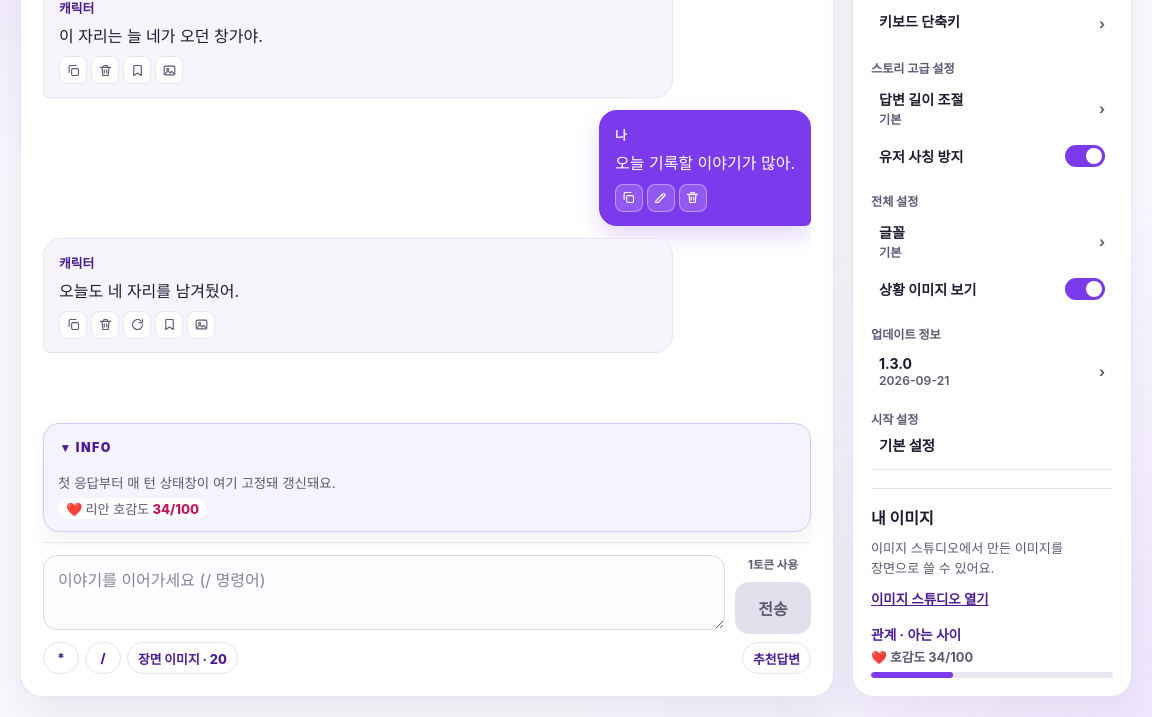
Test case: 채팅 흐름 › 실패한 응답을 사용자 메시지 중복 없이 다시 시도한다
(page scrolled)
In the text box named "메시지": (384, 593) [43, 555, 725, 630], type "재시도 대상 메시지"
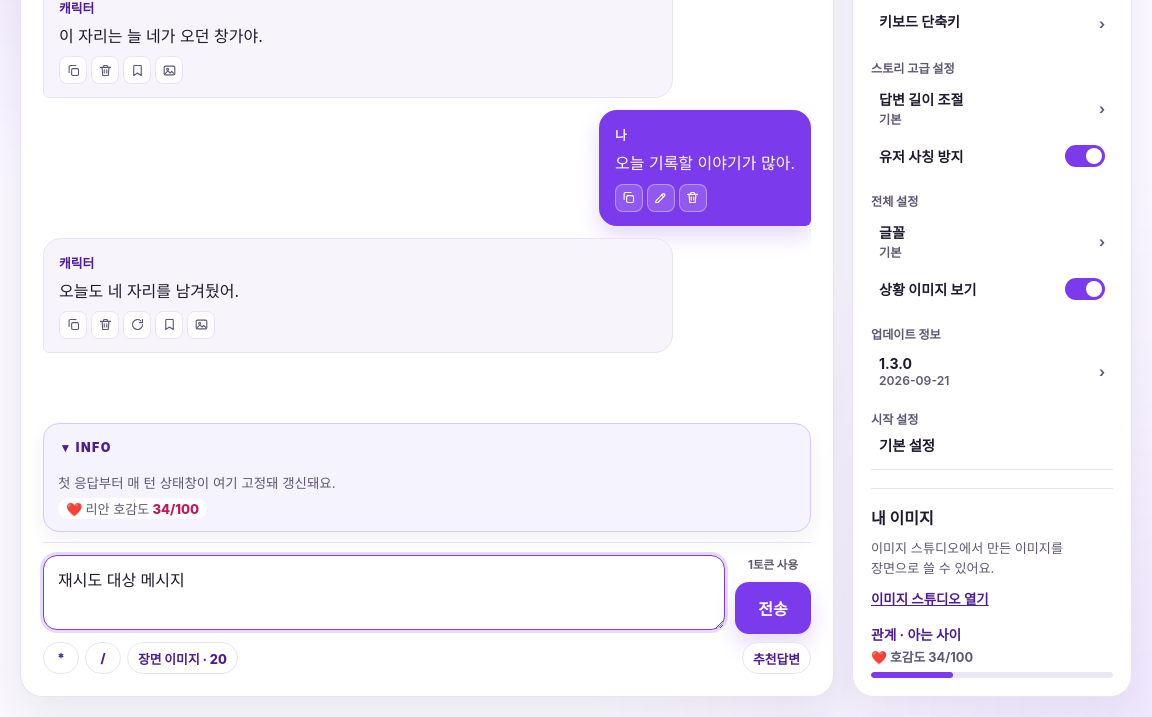
Click the button "전송": (773, 608) [735, 582, 811, 634]
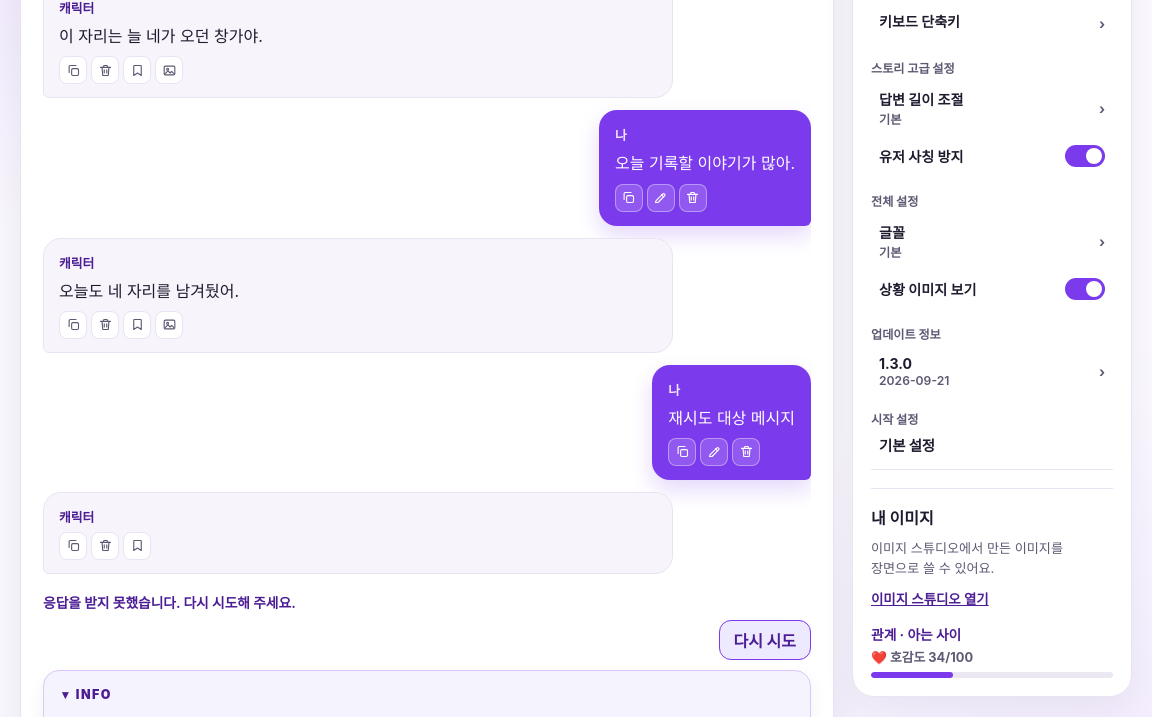
Check: the button "다시 시도" is shown
Click the button "다시 시도": (765, 640) [719, 620, 811, 660]
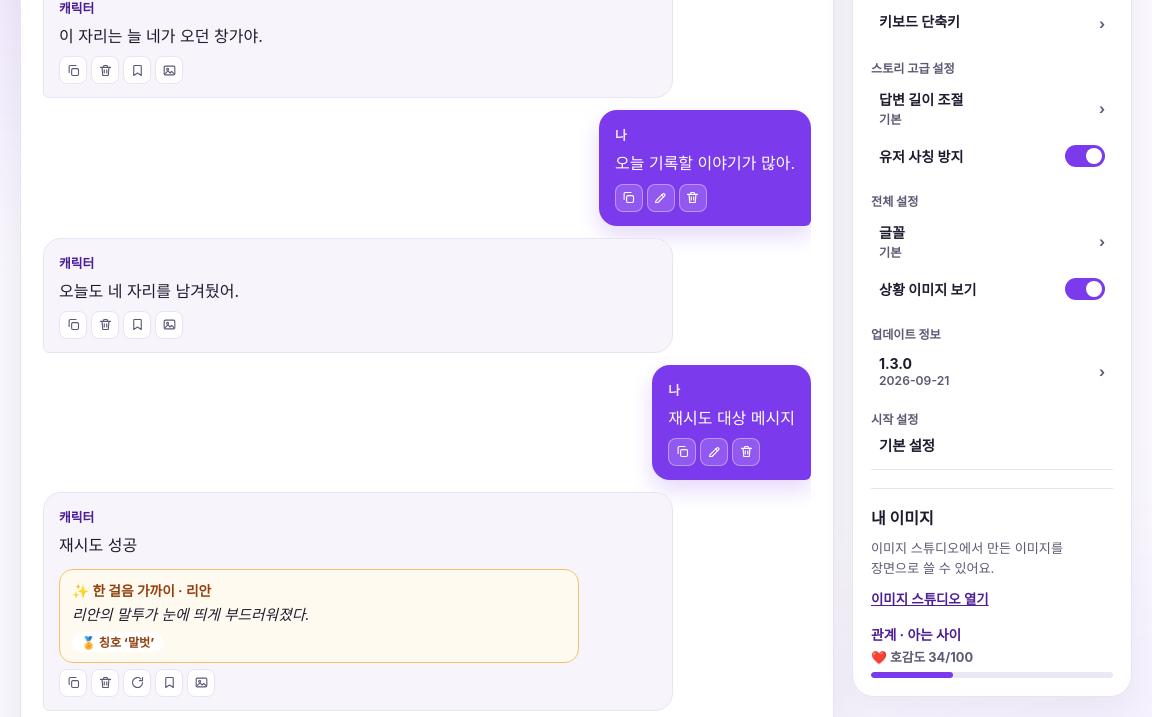
Check: the text "재시도 대상 메시지" is shown once, box [668, 405, 795, 432]
Check: the text "재시도 성공" is shown, box [59, 535, 137, 555]
Check: the message "다시 시도" is gone
